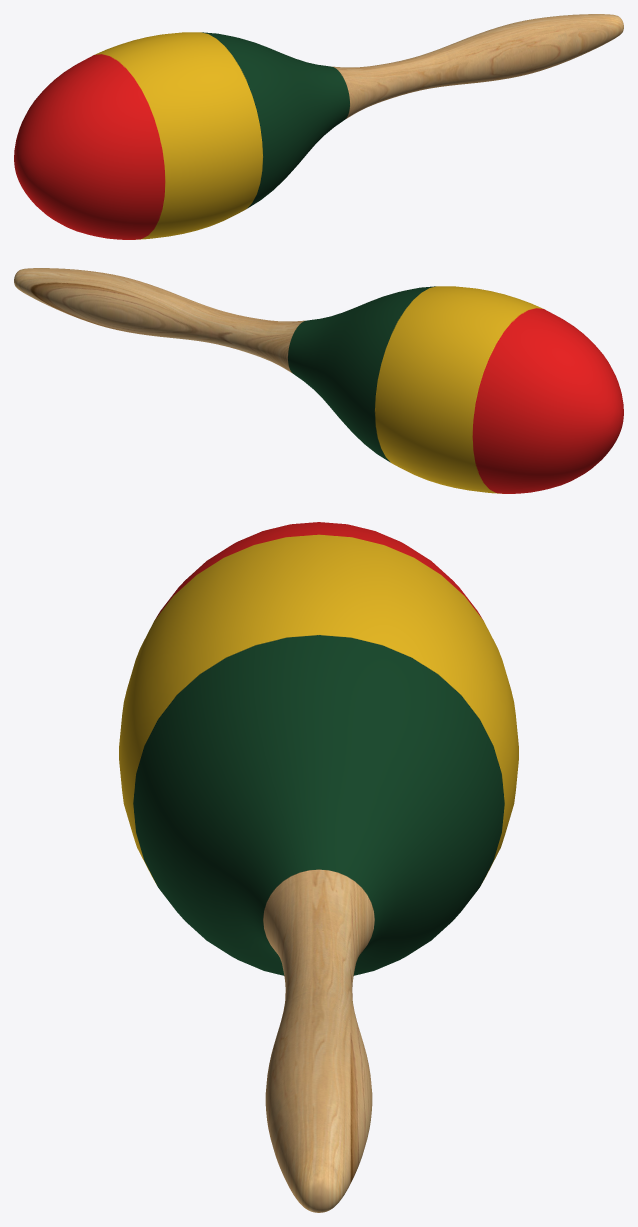
The model's file is maracas_02_colorful.fbx.
The picture shows the model from 3 angles, top to bottom: view 1: azimuth 30°, elevation 25°; view 2: azimuth 150°, elevation 25°; view 3: azimuth 270°, elevation 25°; orthographic projection. The views are drawn at different scales.
Parts seen in each view (by area): view 1: Object_2; view 2: Object_2; view 3: Object_2.
Part boxes in pixels (x1=…): Object_2: x1=14, y1=14, x2=623, y2=239; Object_2: x1=14, y1=268, x2=623, y2=493; Object_2: x1=119, y1=522, x2=518, y2=1212.
Bounding box in the file's own units: 27.44 × 7.91 × 7.91.
Materials: 1 (1 with a texture image).
